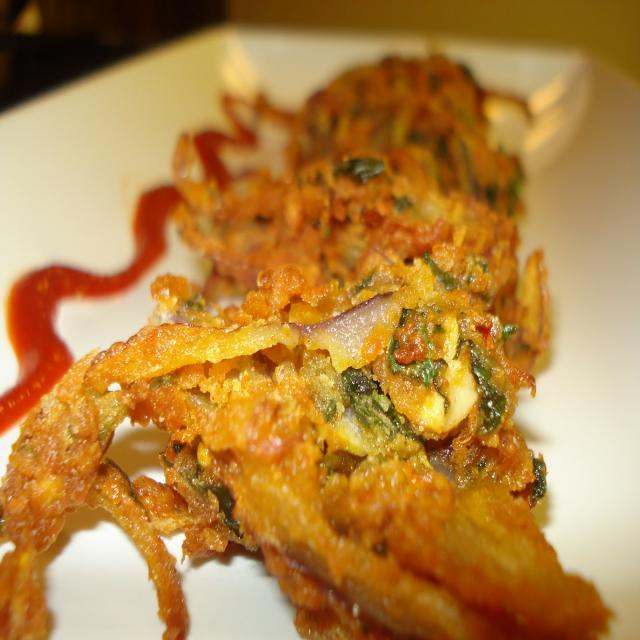Onion Pakora: (3, 45, 640, 640)
